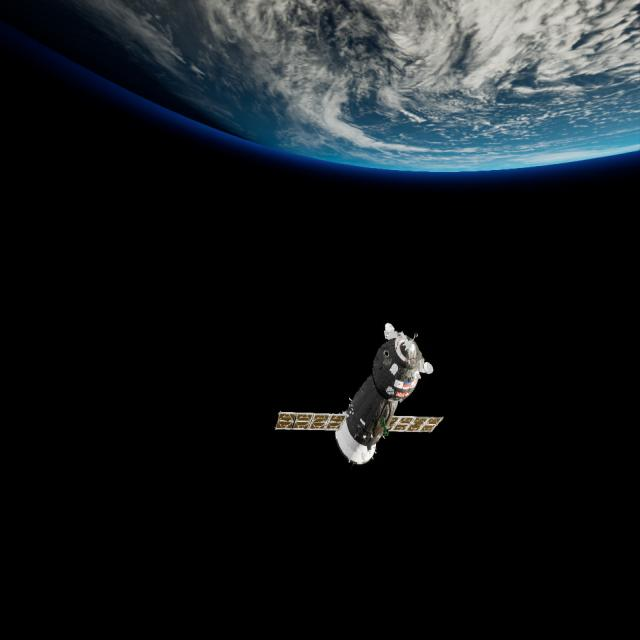Satellites revolving around earth: (273, 321, 445, 468)
